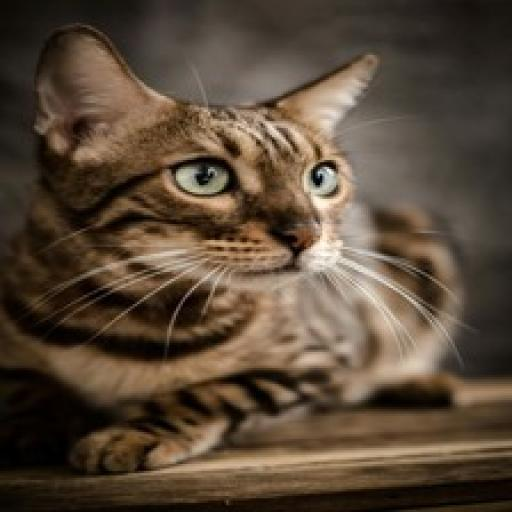cat: (1, 44, 474, 477)
